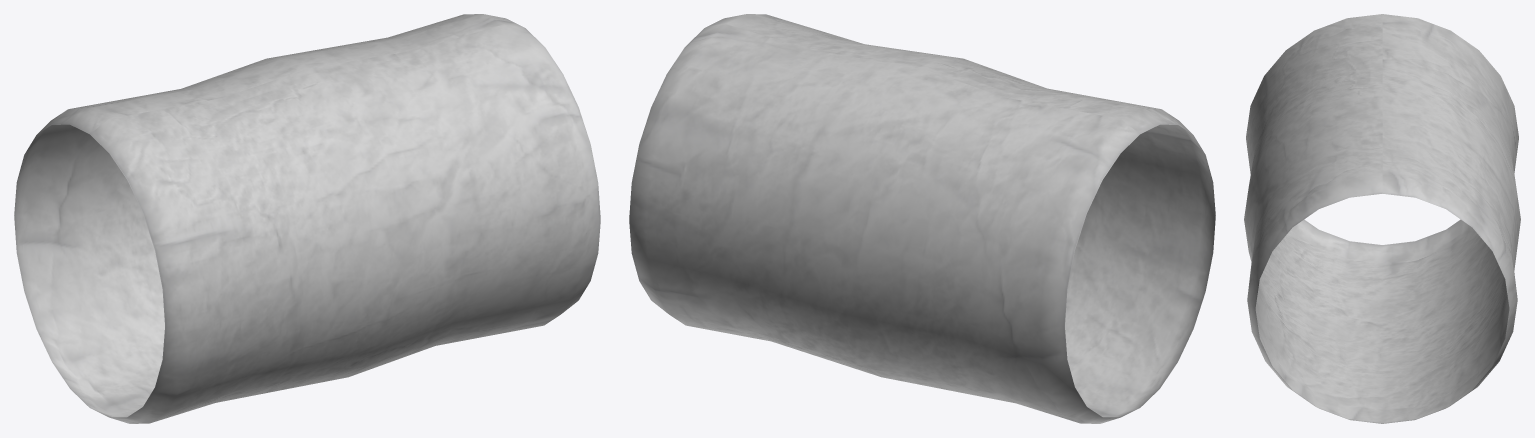
Rendered from Subway_Pipe_foil4.fbx.
3 renders of one model, left to right at view 1: azimuth 30°, elevation 25°; view 2: azimuth 150°, elevation 25°; view 3: azimuth 270°, elevation 25°, orthographic. The views are drawn at different scales.
Parts seen in each view (by area): view 1: pCylinder18; view 2: pCylinder18; view 3: pCylinder18.
Boxes of the visible parts, bbox=[...] form: pCylinder18: bbox=[14, 14, 600, 423]; pCylinder18: bbox=[629, 14, 1215, 423]; pCylinder18: bbox=[1244, 14, 1520, 423].
Size of the model in its own units: 100 by 65.43 by 65.43.
